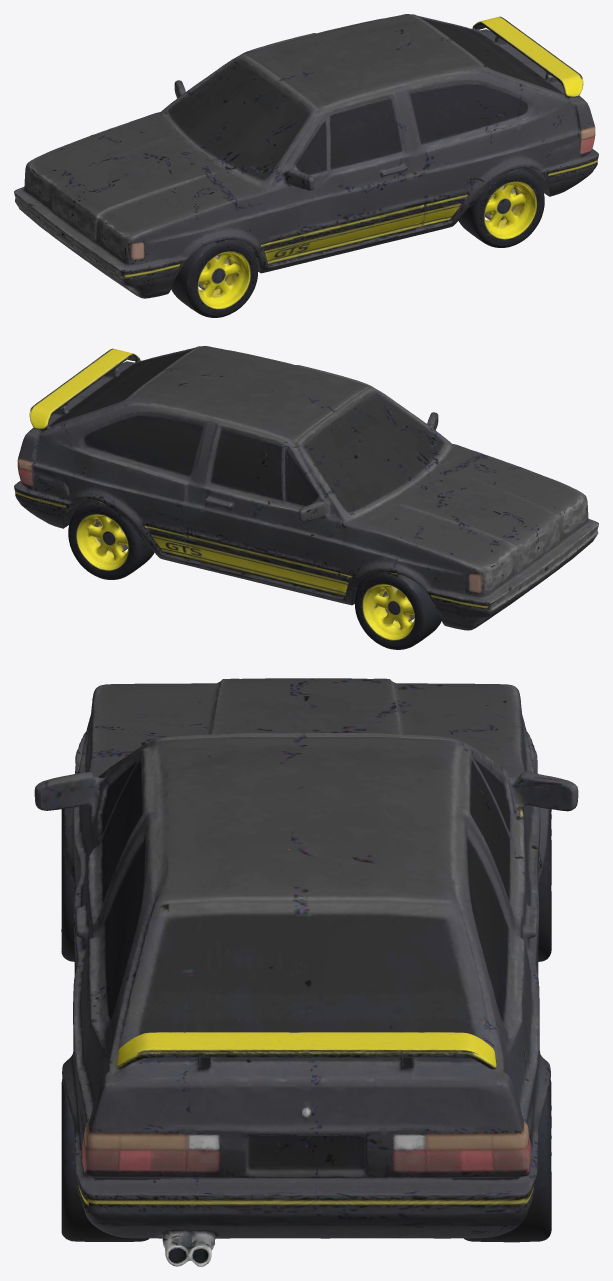
File: cars_popular_quadrado.glb
The picture shows the model from 3 angles, top to bottom: view 1: azimuth 30°, elevation 25°; view 2: azimuth 150°, elevation 25°; view 3: azimuth 270°, elevation 25°; orthographic projection. The views are drawn at different scales.
Visible parts, largest first — view 1: Mesh_0; view 2: Mesh_0; view 3: Mesh_0.
Boxes of the visible parts, x1,y1,x2,y2 form: Mesh_0: [14, 14, 598, 317]; Mesh_0: [14, 346, 598, 649]; Mesh_0: [34, 678, 578, 1266].
Bounding box in the file's own units: 1.9 × 0.6411 × 0.9233.
Materials: 1 (1 with a texture image).
